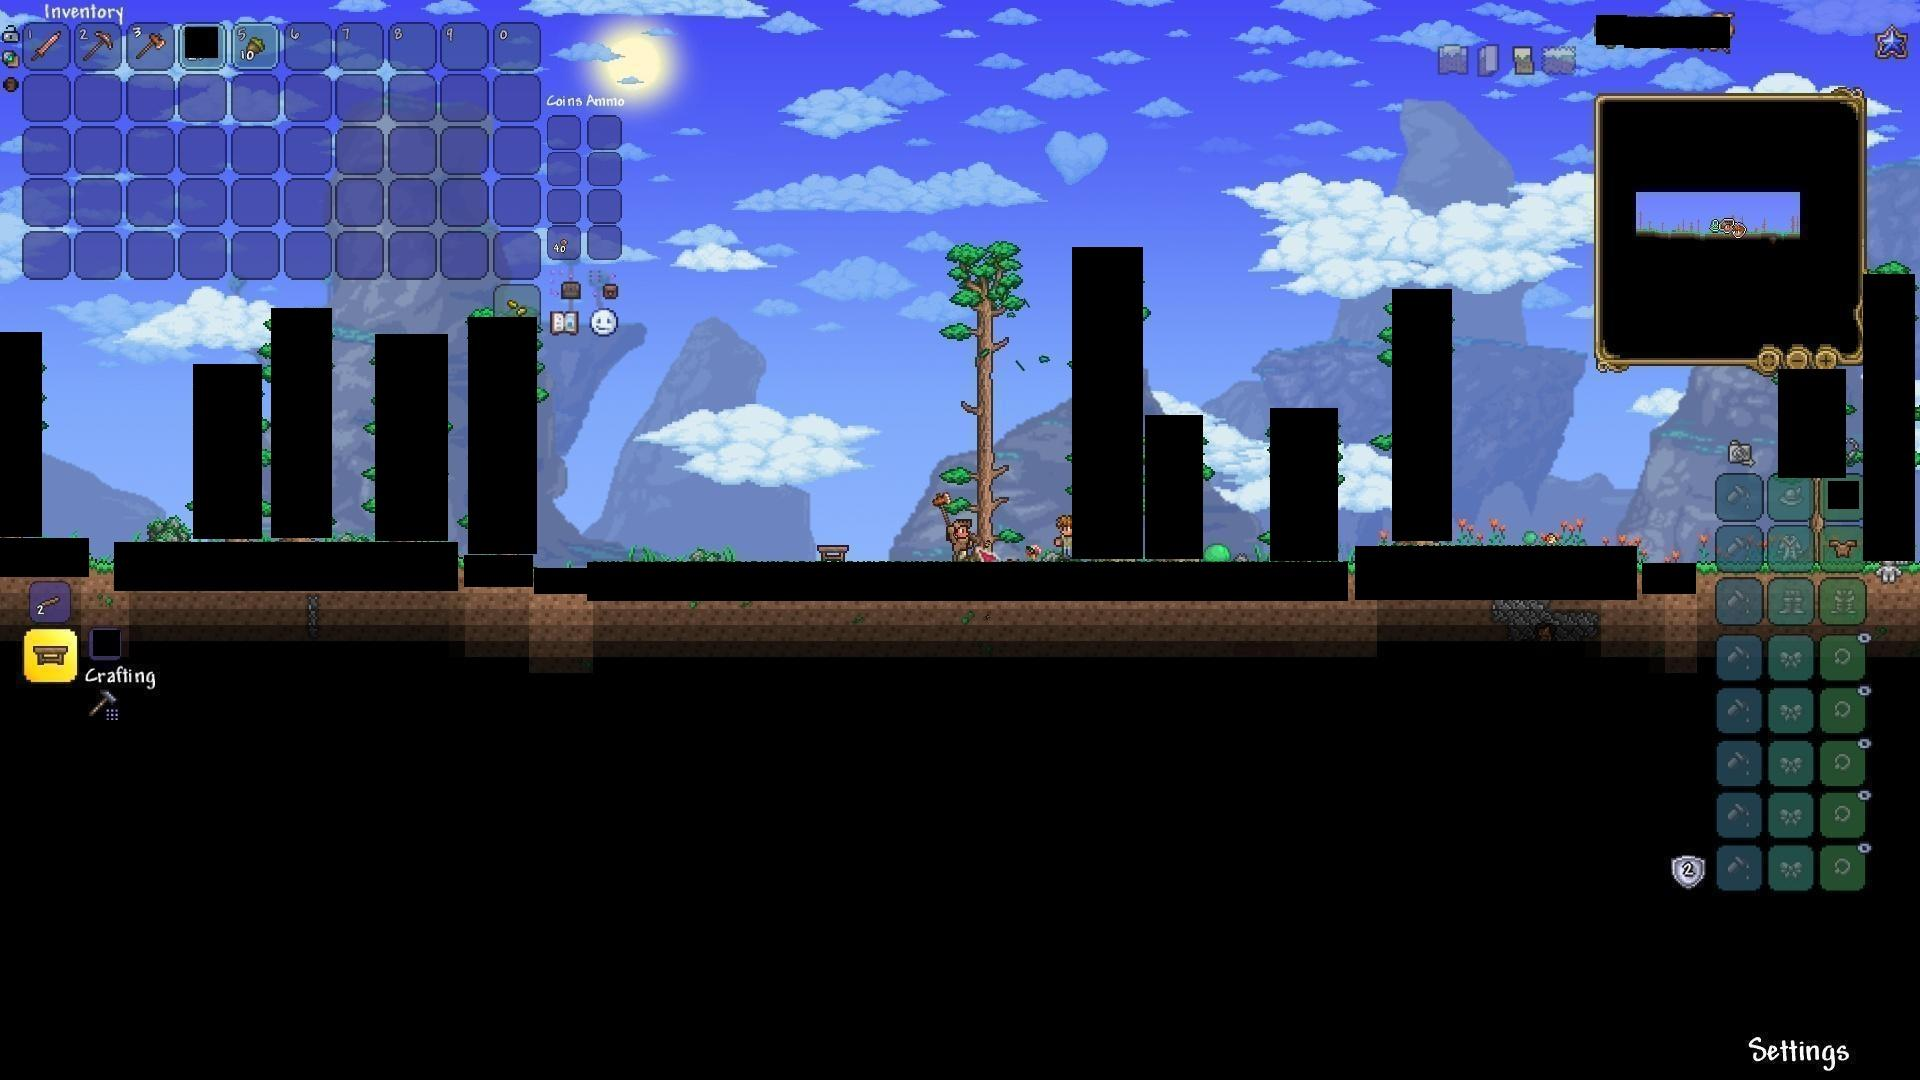breastplate: (1830, 538, 1859, 559)
slime: (1203, 541, 1233, 564)
tree: (953, 229, 1017, 556)
workbench: (32, 644, 69, 669), (815, 542, 852, 567)
